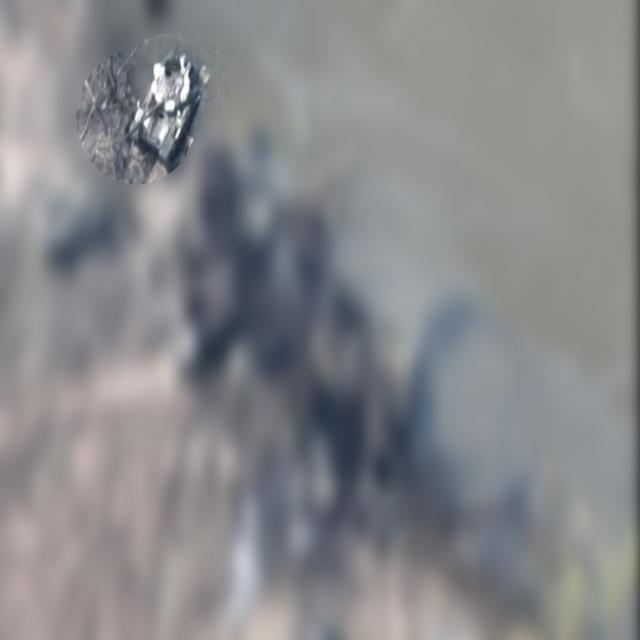tank: (118, 46, 205, 172)
